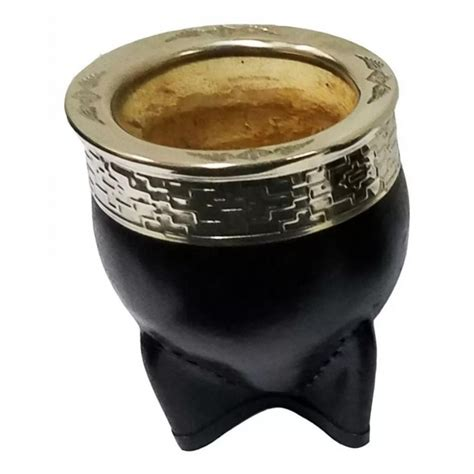cuero: (86, 168, 416, 452)
